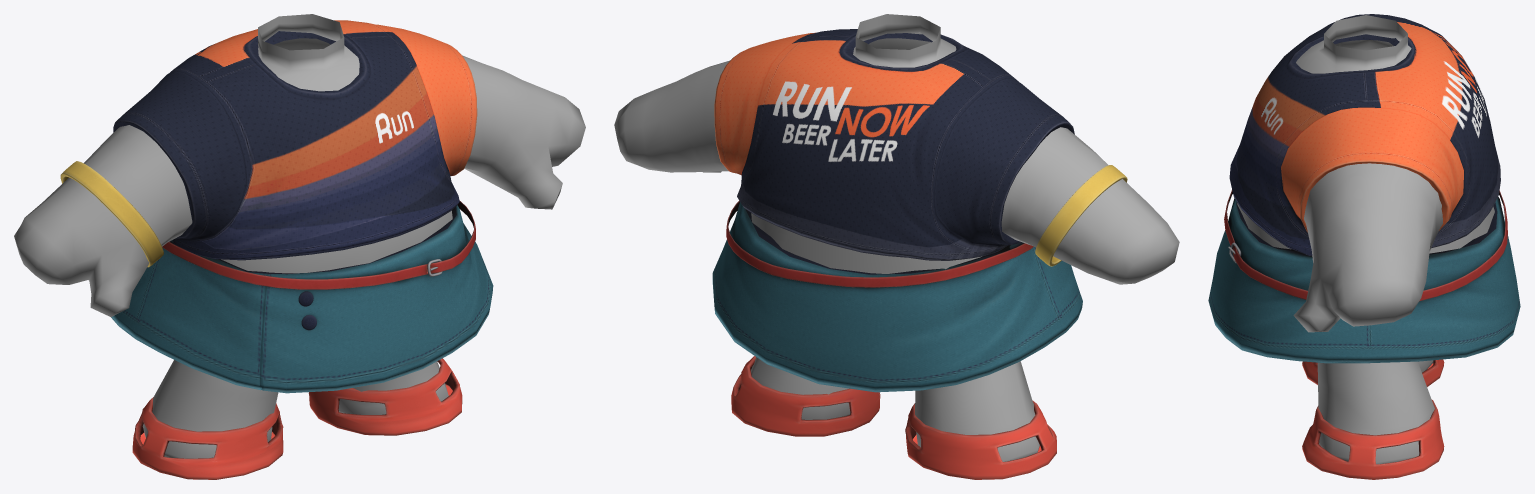
3 renders of one model, left to right at view 1: azimuth 30°, elevation 25°; view 2: azimuth 150°, elevation 25°; view 3: azimuth 270°, elevation 25°, orthographic. The views are drawn at different scales.
Parts seen in each view (by area): view 1: OF2, Body_low; view 2: OF2, Body_low; view 3: OF2, Body_low.
Boxes of the visible parts, box(x1,y1,x2,y2) form: OF2: box(60, 20, 493, 479); Body_low: box(14, 14, 585, 458); OF2: box(712, 29, 1127, 479); Body_low: box(614, 14, 1179, 461); OF2: box(1208, 14, 1520, 479); Body_low: box(1237, 15, 1494, 464).
Size of the model in its own units: 45.76 by 31.07 by 23.35.
Materials: 2 (1 with a texture image).
